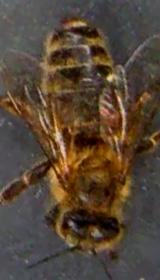varroa_mite: (92, 98, 130, 123)
